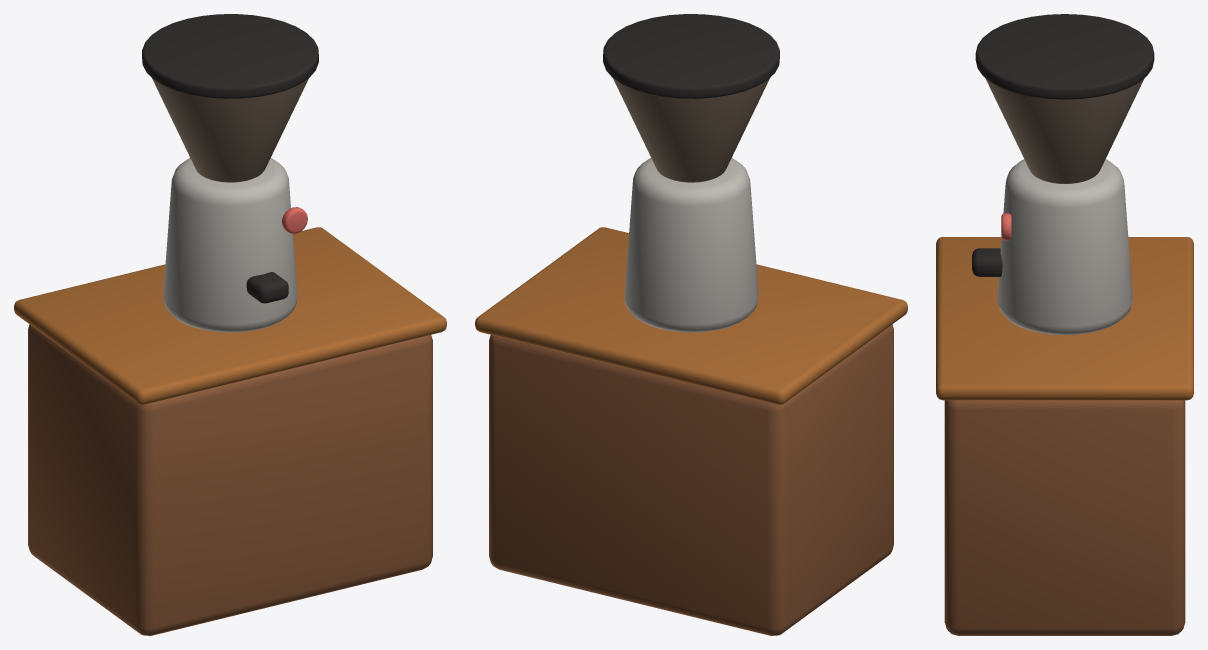
File: moulin_electrique.glb
3 renders of one model, left to right at view 1: azimuth 30°, elevation 25°; view 2: azimuth 150°, elevation 25°; view 3: azimuth 270°, elevation 25°, orthographic.
Visible parts, largest first — view 1: meuble, plateau, socle, couvercle, tremie, bec; view 2: meuble, plateau, socle, couvercle, tremie; view 3: meuble, plateau, socle, couvercle, tremie, bec.
Part boxes in pixels (left/top/right/bottom): meuble: left=28, top=324, right=432, bottom=635; plateau: left=14, top=227, right=446, bottom=404; socle: left=163, top=158, right=297, bottom=332; couvercle: left=142, top=14, right=318, bottom=98; tremie: left=152, top=78, right=308, bottom=182; bec: left=246, top=272, right=288, bottom=303; meuble: left=489, top=324, right=893, bottom=635; plateau: left=475, top=227, right=907, bottom=404; socle: left=624, top=158, right=758, bottom=332; couvercle: left=603, top=14, right=779, bottom=98; tremie: left=613, top=78, right=769, bottom=182; meuble: left=944, top=400, right=1185, bottom=635; plateau: left=936, top=237, right=1193, bottom=400; socle: left=997, top=159, right=1132, bottom=335; couvercle: left=975, top=14, right=1154, bottom=99; tremie: left=985, top=78, right=1144, bottom=183; bec: left=972, top=248, right=1002, bottom=276.
Bounding box in the file's own units: 1.05 × 1.66 × 0.75.
